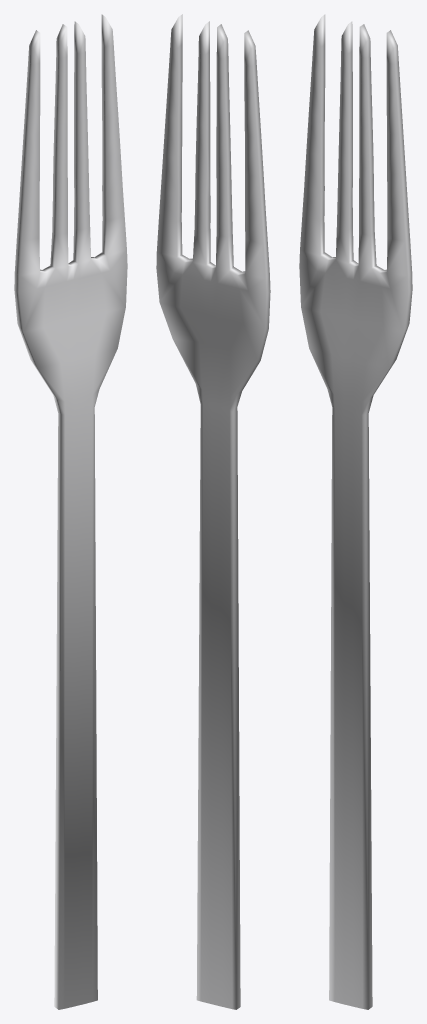
Rendered from Fork.fbx.
3 renders of one model, left to right at view 1: azimuth 30°, elevation 25°; view 2: azimuth 150°, elevation 25°; view 3: azimuth 330°, elevation 25°, orthographic.
Visible parts, largest first — view 1: R_Fork; view 2: R_Fork; view 3: R_Fork.
Boxes of the visible parts, x1,y1,x2,y2 form: R_Fork: (14,14,127,1009); R_Fork: (156,14,270,1009); R_Fork: (299,14,412,1009).
Size of the model in its own units: 1.27 by 10.92 by 0.2103.
Materials: 1 (1 with a texture image).
